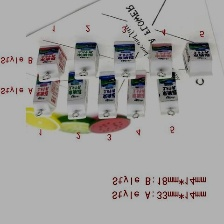carton: (120, 69, 147, 126), (30, 73, 63, 119), (63, 70, 91, 123), (33, 42, 69, 82), (155, 69, 182, 120), (182, 38, 214, 81), (145, 38, 177, 80), (96, 69, 120, 121), (110, 39, 138, 83), (73, 41, 101, 81)
